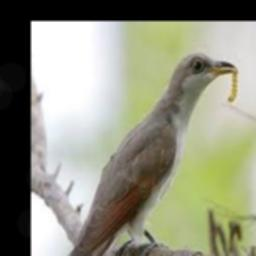Cuckoo: (59, 53, 236, 256)
